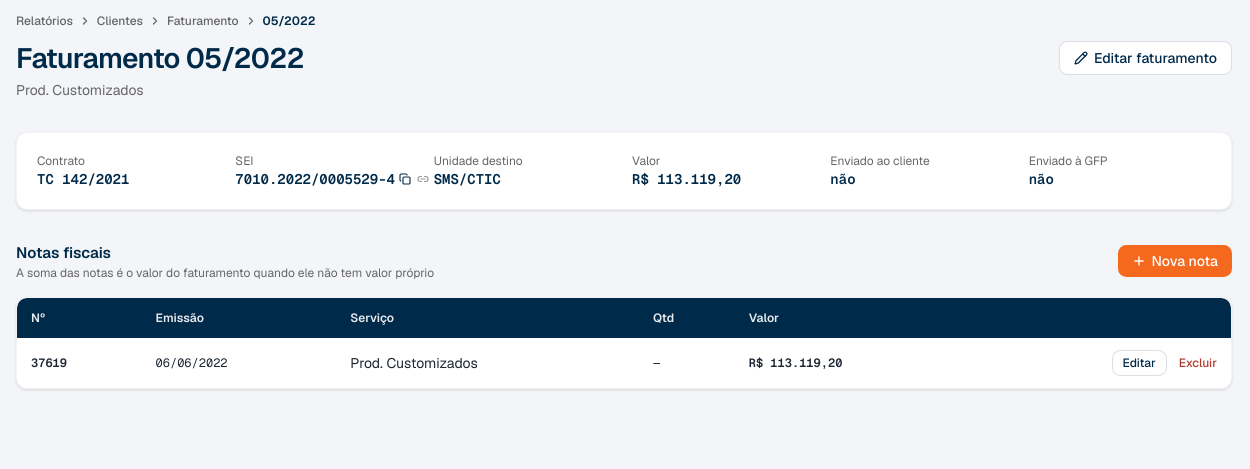
Test: FaturamentoDetalhePage › exclui uma nota com confirmação inline
The image size is (1250, 469).
Click the button "Excluir". click: (1198, 363)
box: [1179,355,1217,371]
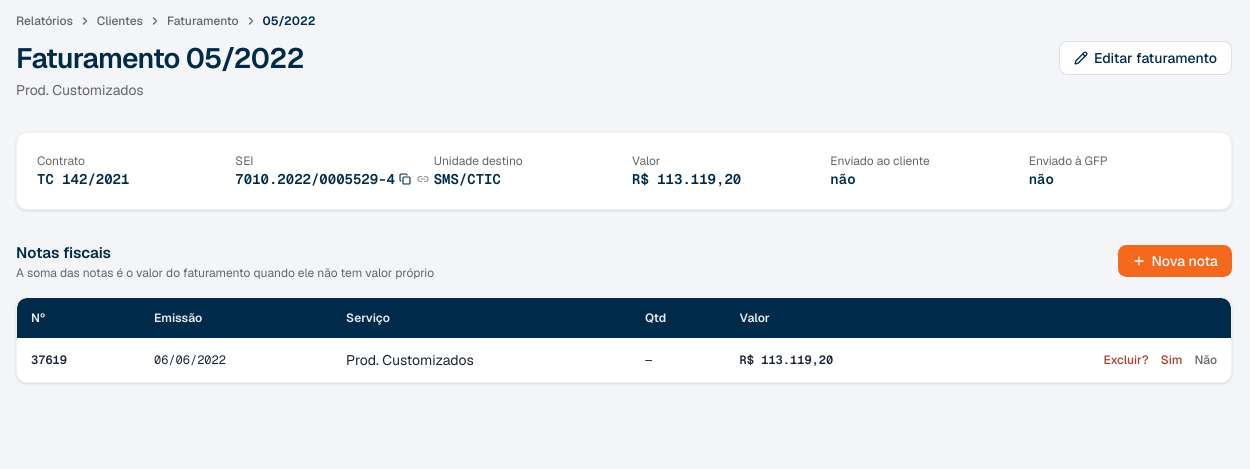
Click the button "Sim". click: (1172, 360)
box: [1161,352,1182,368]
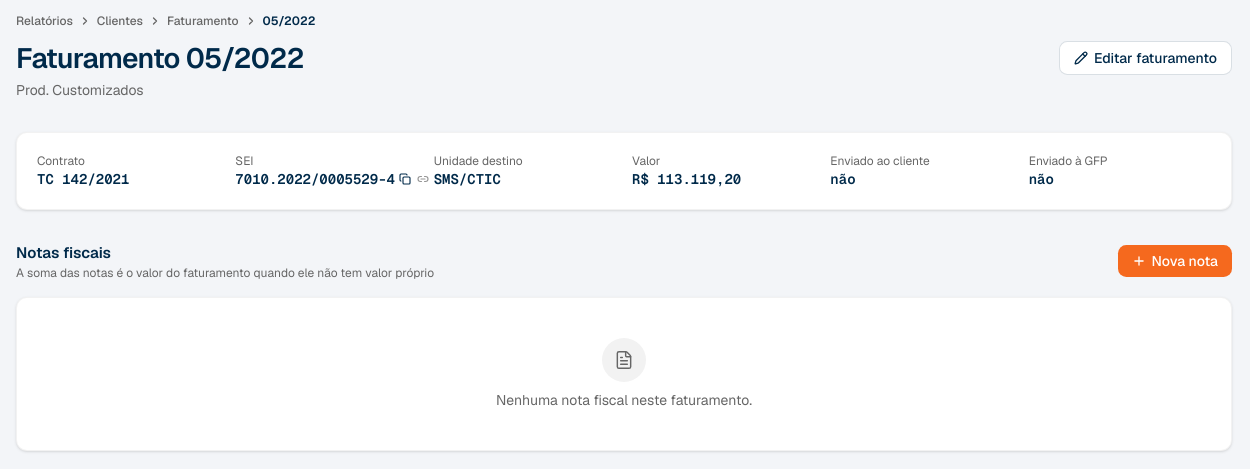
Result: the text "37619" is gone
